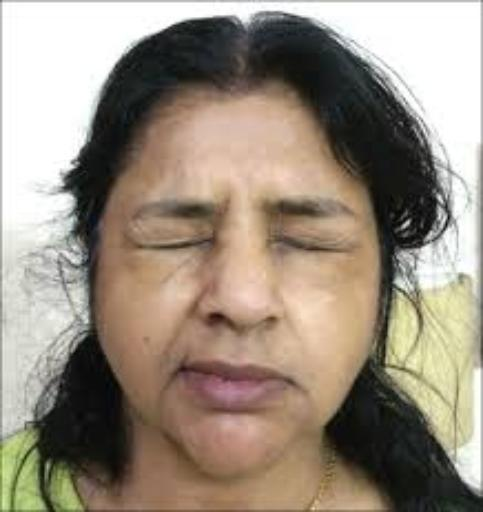left_eye: (272, 225, 361, 260)
left_lip_corner: (277, 368, 308, 397)
right_eye: (134, 233, 220, 259)
right_lip_corner: (167, 361, 198, 385)
